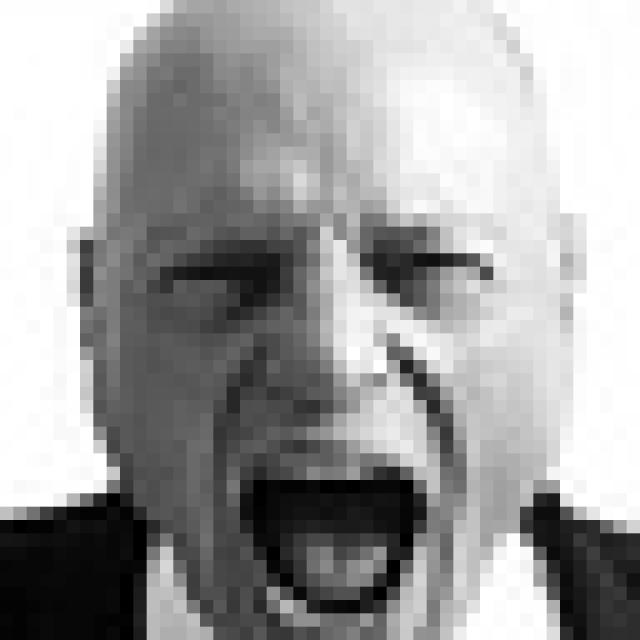angry: (150, 209, 496, 640)
